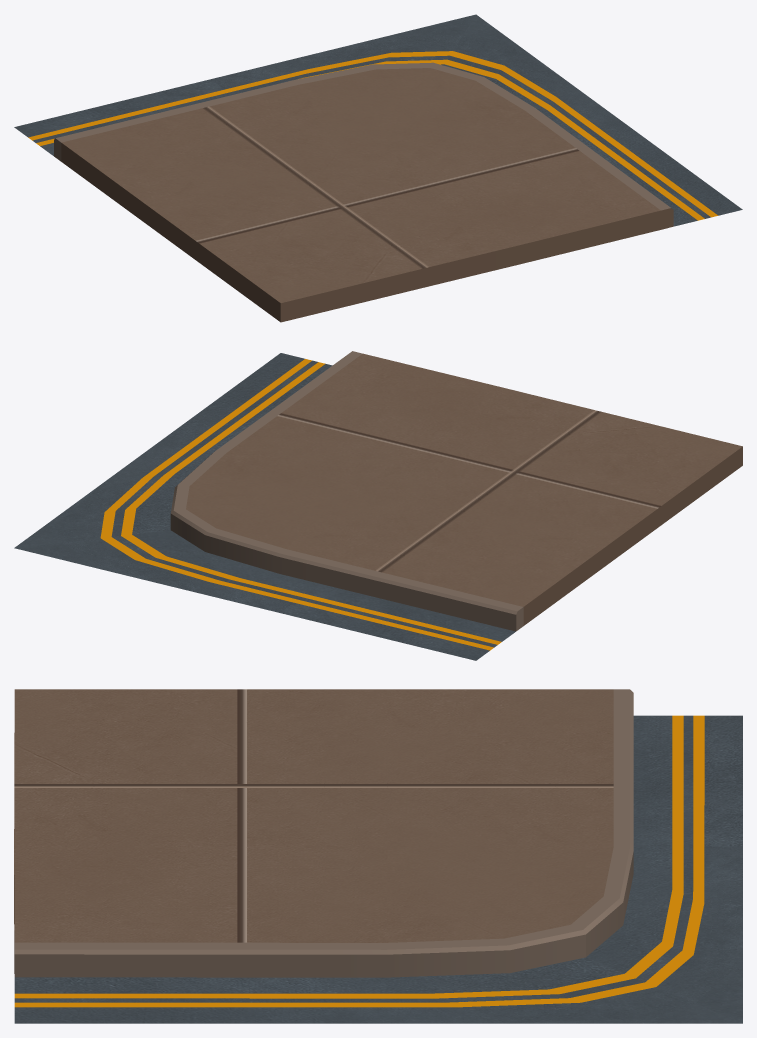
Rendered from Footwalk_Corner_01.fbx.
The picture shows the model from 3 angles, top to bottom: view 1: azimuth 30°, elevation 25°; view 2: azimuth 150°, elevation 25°; view 3: azimuth 270°, elevation 25°; orthographic projection. The views are drawn at different scales.
Visible parts, largest first — view 1: Footwalk_Corner_01; view 2: Footwalk_Corner_01; view 3: Footwalk_Corner_01.
Part boxes in pixels (x1,y1,x2,y2): Footwalk_Corner_01: (14, 14, 742, 322); Footwalk_Corner_01: (14, 351, 742, 660); Footwalk_Corner_01: (14, 689, 742, 1023).
Size of the model in its own units: 400 by 15.92 by 400.
